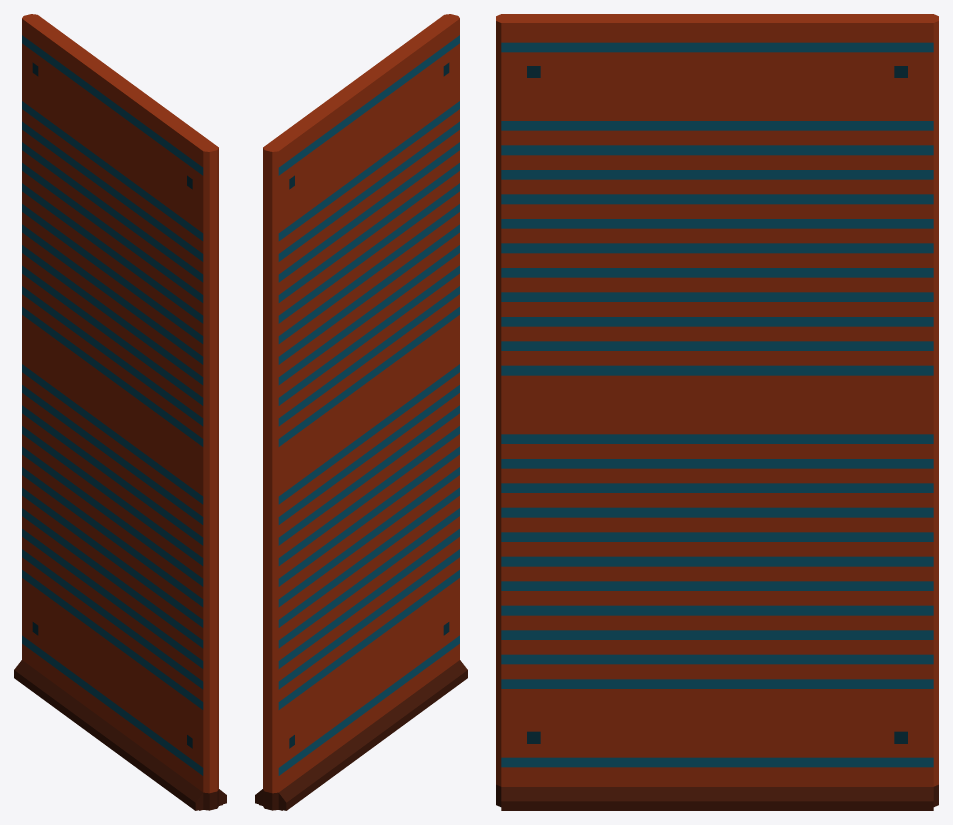
The model's file is Wall_1-2B.fbx.
3 renders of one model, left to right at view 1: azimuth 30°, elevation 25°; view 2: azimuth 150°, elevation 25°; view 3: azimuth 270°, elevation 25°, orthographic. The views are drawn at different scales.
Visible parts, largest first — view 1: Wall_1-2B; view 2: Wall_1-2B; view 3: Wall_1-2B.
Boxes of the visible parts, x1,y1,x2,y2 form: Wall_1-2B: (14,14,226,810); Wall_1-2B: (255,14,467,810); Wall_1-2B: (496,14,938,810).
Size of the model in its own units: 0.4 by 4.1 by 8.01.
